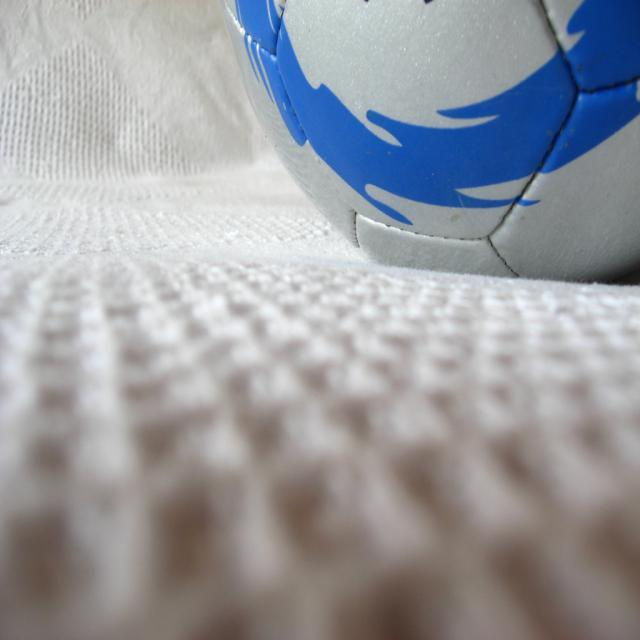football: (203, 0, 640, 313)
